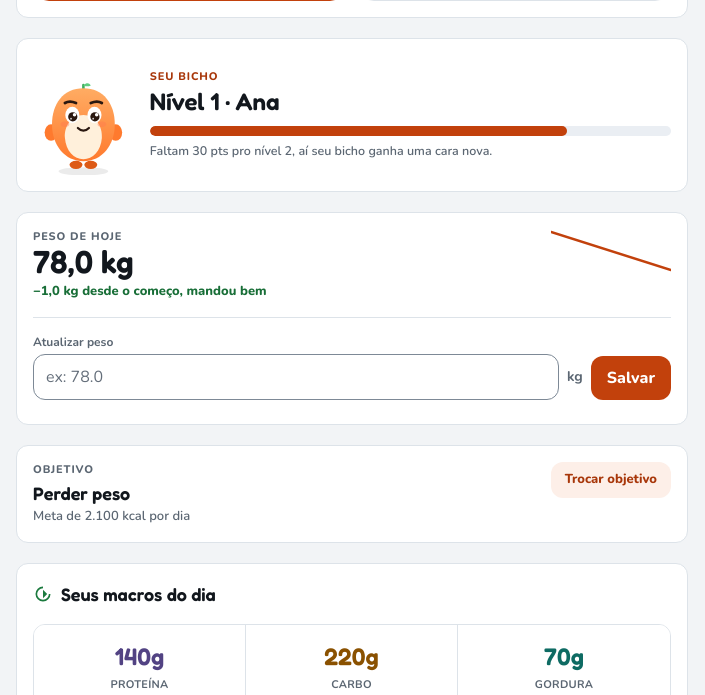
ProfilePage weight card › refuses a weight no person has
(page scrolled)
Type "1000" into the number field labelled "Atualizar peso" at {"x": 296, "y": 377}, box 33,354 -> 559,400
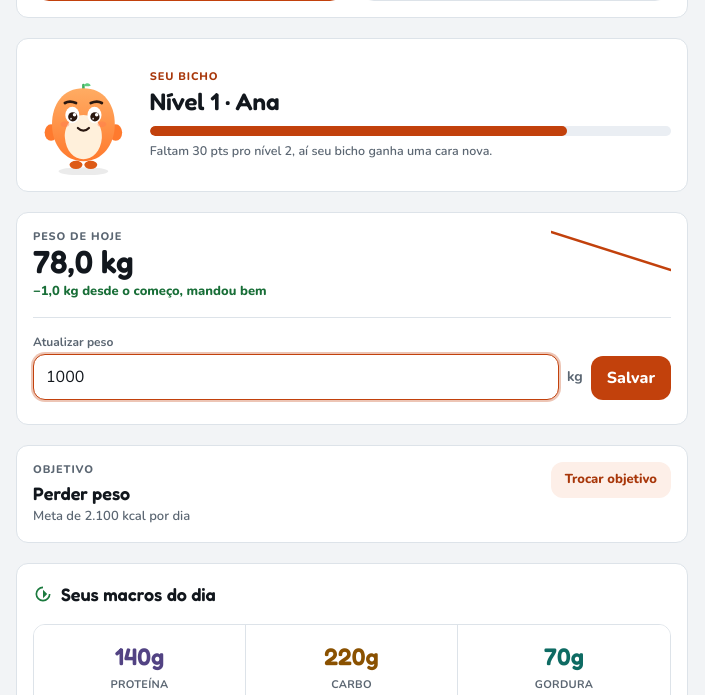
Click the button "Salvar" at {"x": 631, "y": 378}, box 591,356 -> 671,400
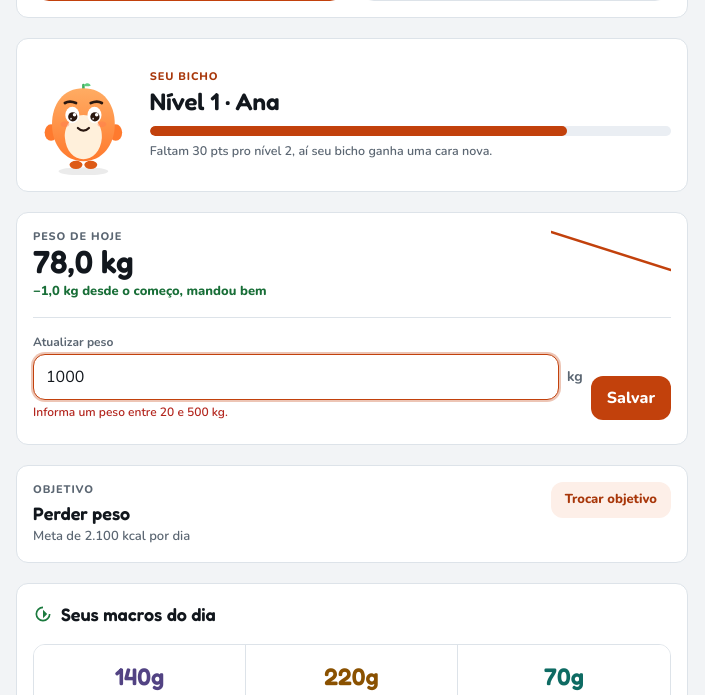
Expected: the message reads "Informa um peso entre 20 e 500 kg.", 33,404 -> 228,420
